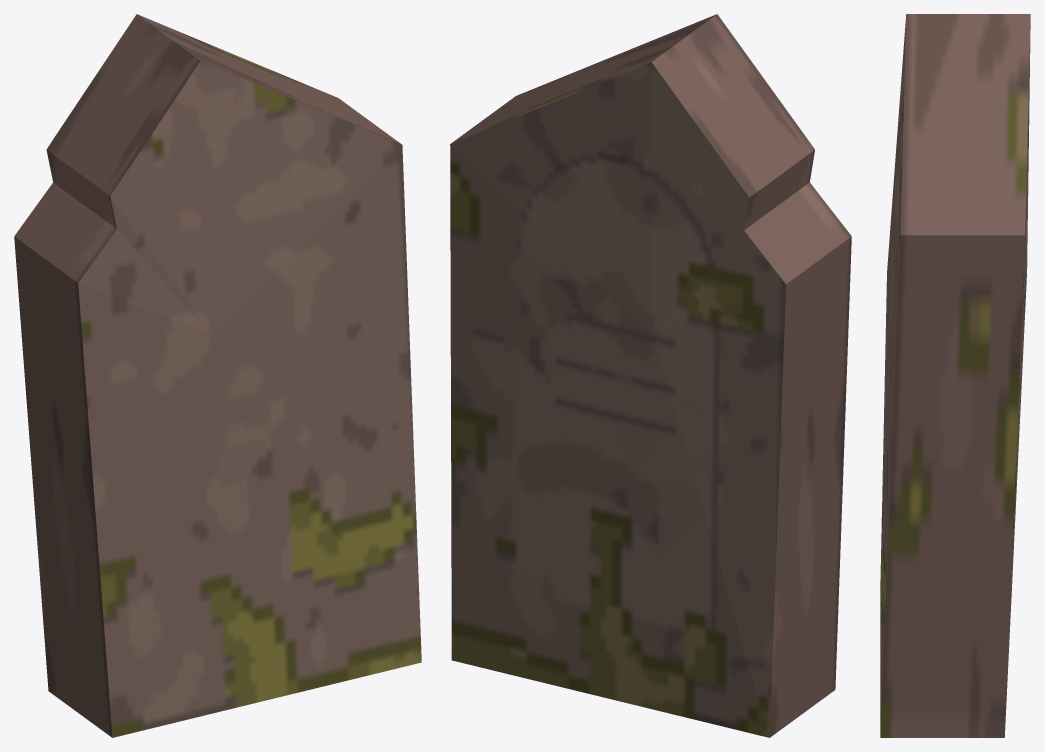
File: SM_SP06_GravestoneMedium.fbx
The picture shows the model from 3 angles, left to right: view 1: azimuth 30°, elevation 25°; view 2: azimuth 150°, elevation 25°; view 3: azimuth 270°, elevation 25°; orthographic projection. The views are drawn at different scales.
Parts seen in each view (by area): view 1: SP06_Stone; view 2: SP06_Stone; view 3: SP06_Stone.
Boxes of the visible parts, x1=… form: SP06_Stone: x1=14, y1=14, x2=421, y2=737; SP06_Stone: x1=450, y1=14, x2=851, y2=737; SP06_Stone: x1=880, y1=14, x2=1030, y2=737.
Bounding box in the file's own units: 0.7244 × 1.33 × 0.29.
